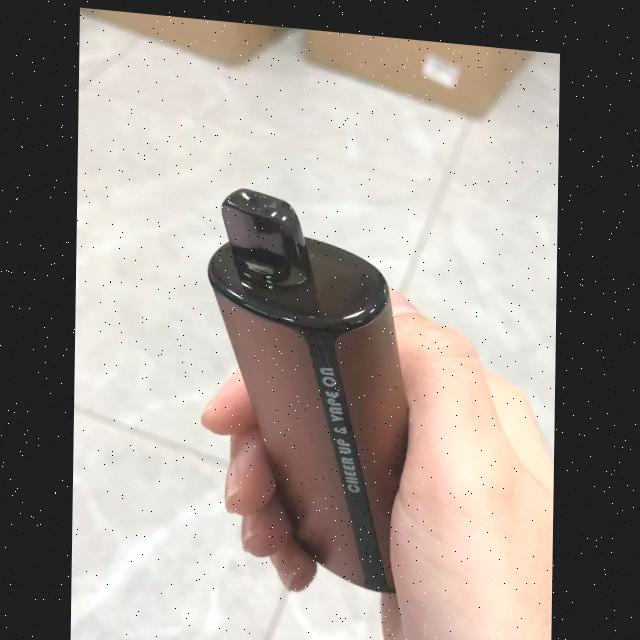vape: (205, 180, 411, 585)
